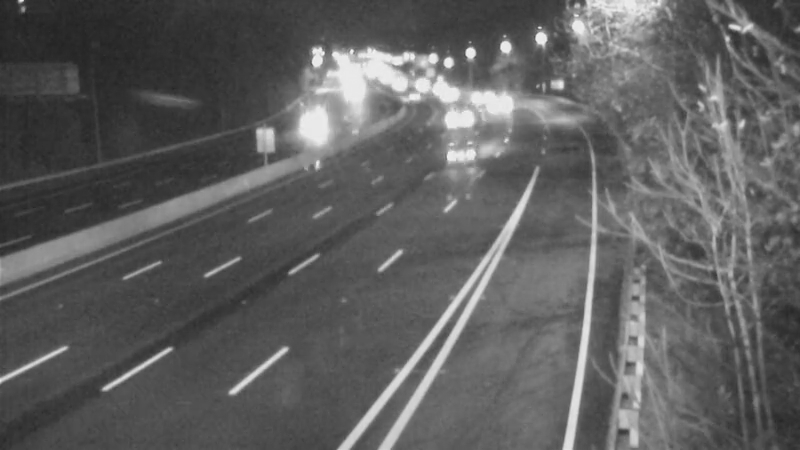vehicle: (425, 113, 505, 193), (423, 67, 473, 117), (388, 71, 438, 121), (450, 73, 500, 123), (475, 82, 525, 132), (433, 89, 483, 139), (283, 101, 333, 151)
